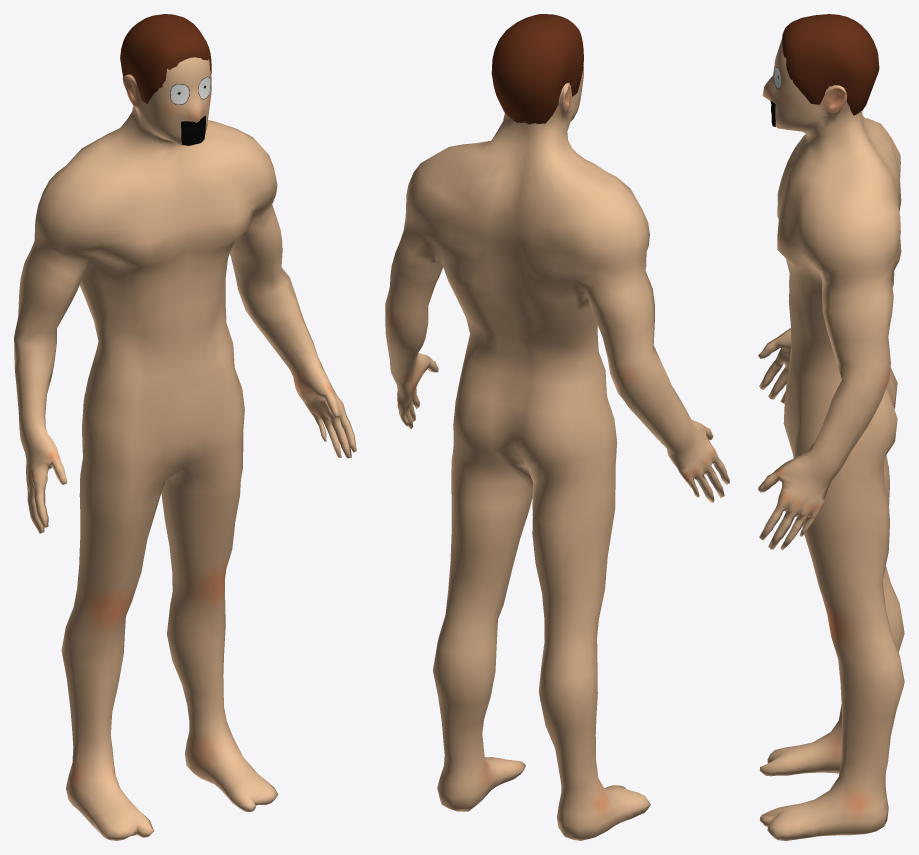
File: Main_Character.obj
The picture shows the model from 3 angles, left to right: view 1: azimuth 30°, elevation 25°; view 2: azimuth 150°, elevation 25°; view 3: azimuth 270°, elevation 25°; orthographic projection.
Visible parts, largest first — view 1: bake, hair; view 2: bake, hair; view 3: bake, hair.
Boxes of the visible parts, x1=… form: bake: x1=14, y1=57, x2=356, y2=840; hair: x1=120, y1=14, x2=211, y2=103; bake: x1=385, y1=65, x2=729, y2=840; hair: x1=491, y1=14, x2=583, y2=124; bake: x1=758, y1=38, x2=904, y2=840; hair: x1=782, y1=14, x2=879, y2=115.
Bounding box in the file's own units: 1.63 × 3.85 × 0.6509.
4 materials, 3 textured.
